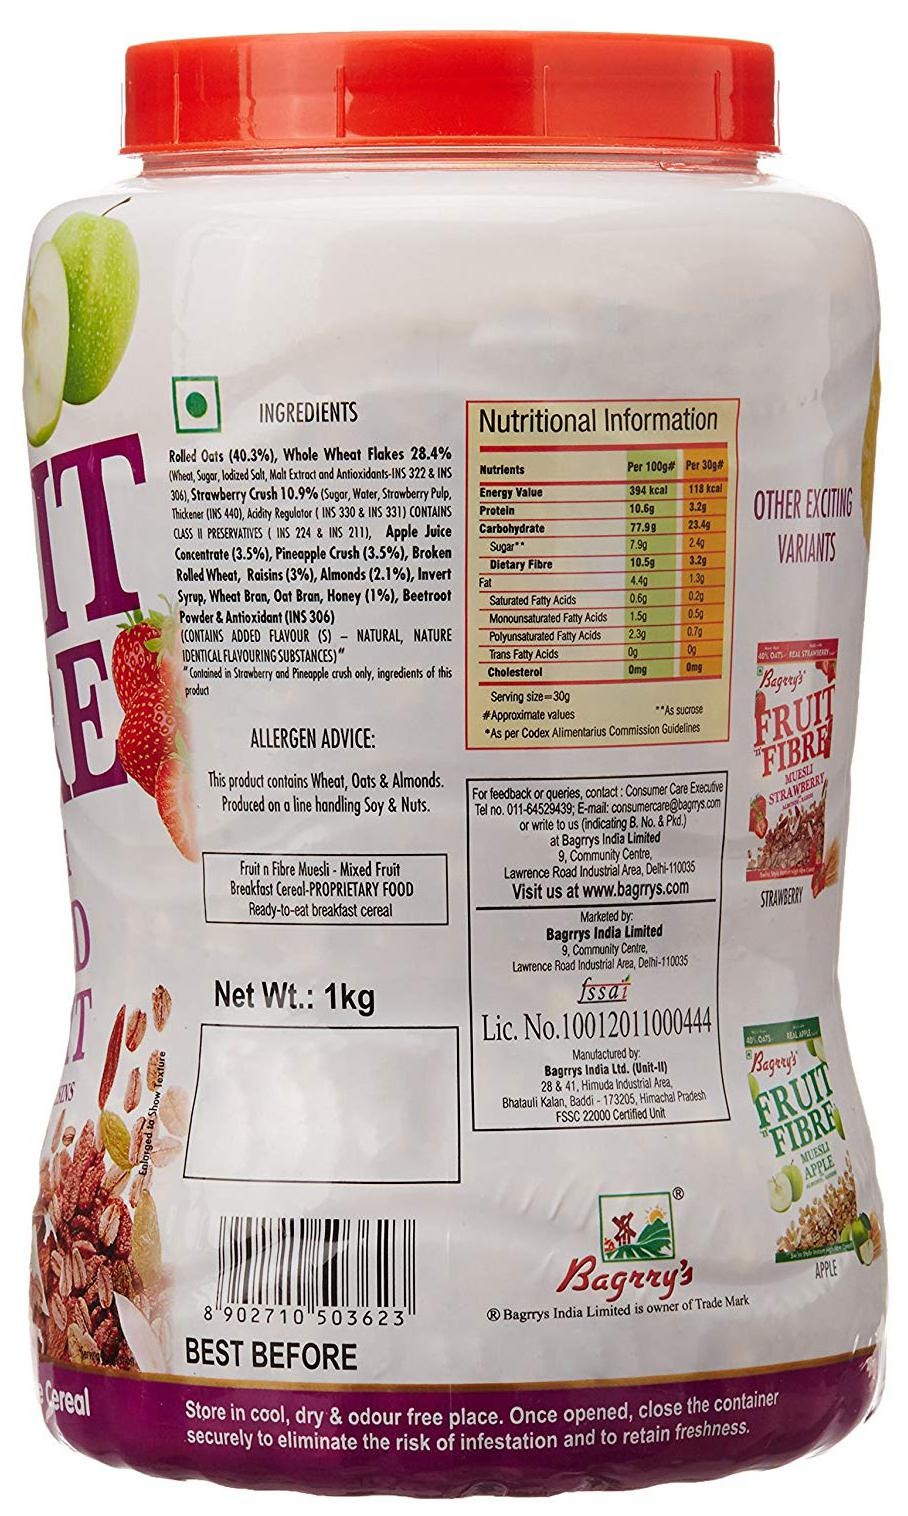fssai: (576, 974, 629, 1004)
